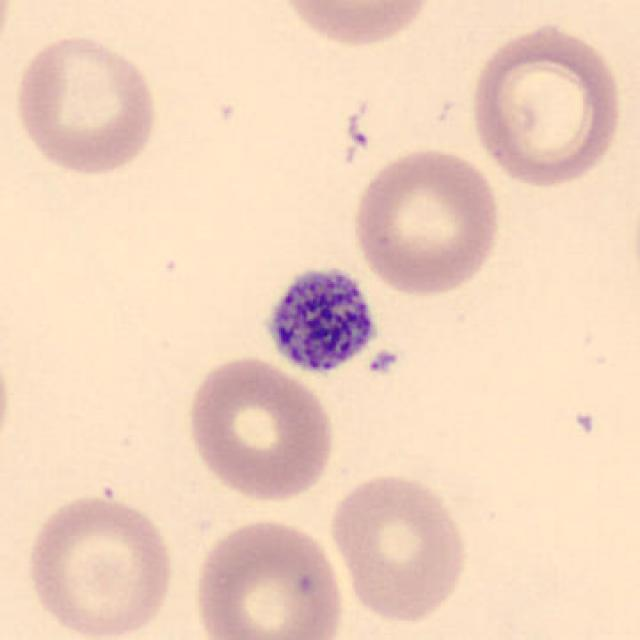Platelets: (260, 259, 384, 377)
RBC: (466, 19, 628, 190), (348, 141, 505, 298), (182, 353, 340, 504), (22, 488, 180, 638), (325, 467, 473, 626), (9, 32, 162, 178), (188, 515, 346, 640), (271, 0, 437, 49)
